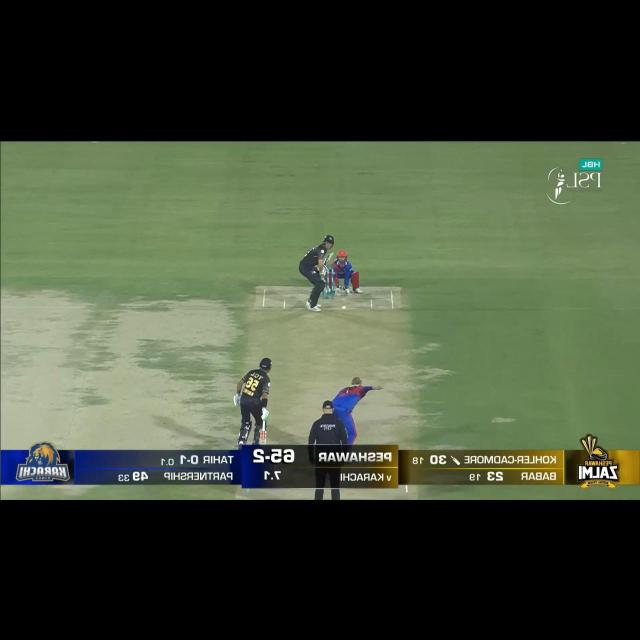bat: (323, 251, 334, 266), (259, 430, 266, 445)
toe: (327, 251, 334, 257)
